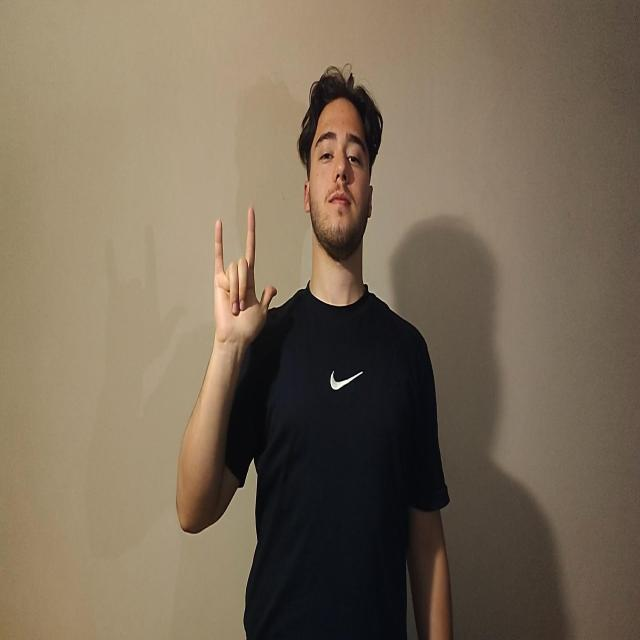iloveyou: (213, 205, 277, 354)
